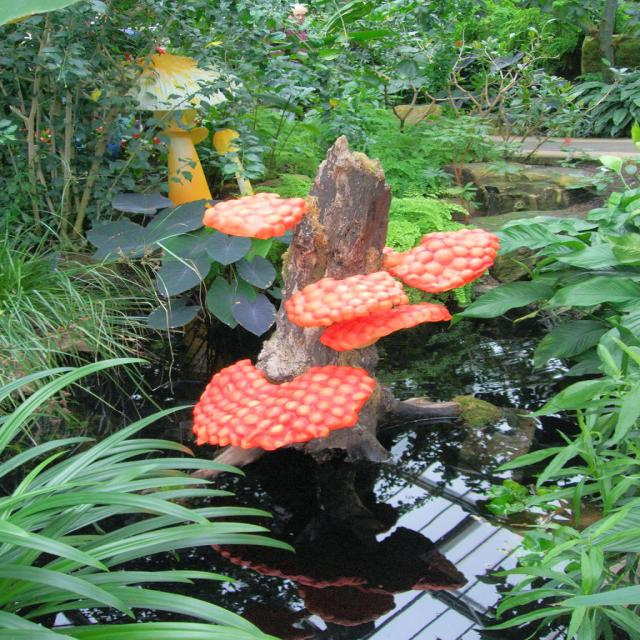Mushroom: (97, 53, 248, 209), (183, 358, 394, 459), (381, 224, 498, 294), (316, 302, 452, 354), (284, 272, 407, 328), (203, 190, 306, 240), (214, 128, 254, 196)
